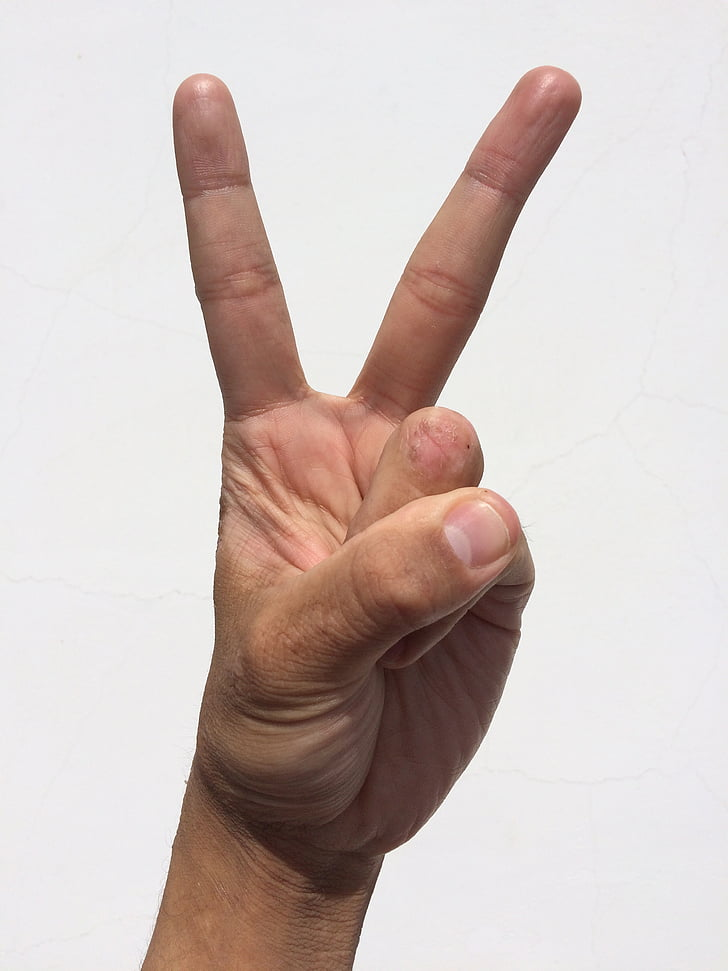peacesign: (155, 51, 587, 464)
